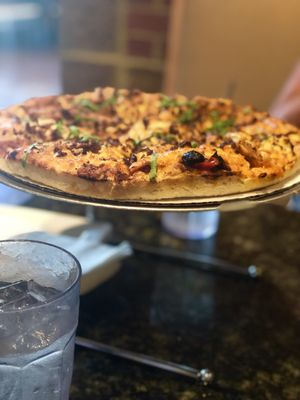pizza: (0, 238, 82, 400), (0, 0, 66, 109)
